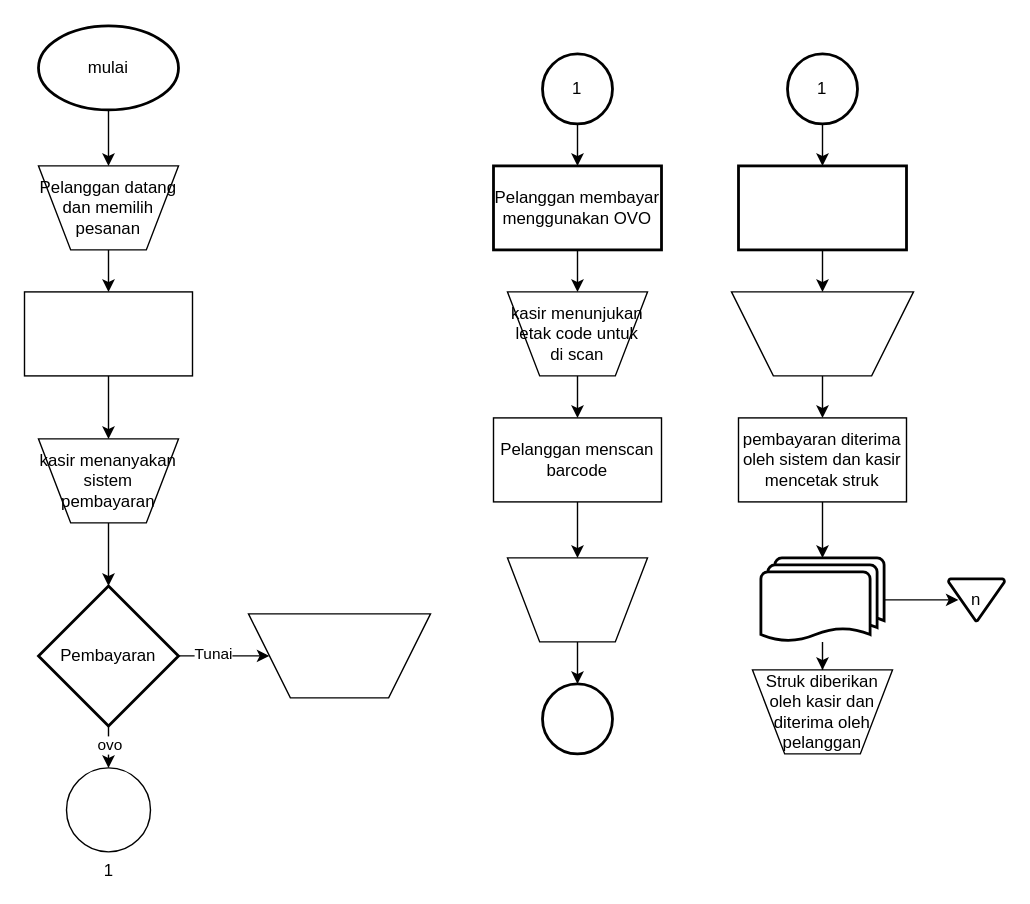
The diagram is 1030 pixels wide and 904 high, and some of its shapes have lost their labels. The shapes that lost their labels are listed below. From the top down, each one's box as (x1, y1, x2, y2) in pixels, then its label:
(736, 164, 907, 251): pelanggan mendapat notifikasi verifikasi pembayaran
(23, 290, 192, 376): kasir menginput pesanan
(730, 290, 913, 376): menunggu data diterima oleh kasir
(506, 556, 648, 642): menunggu proses verifikasi
(759, 556, 885, 643): Struk
(247, 612, 430, 698): pelanggan membayar tunai
